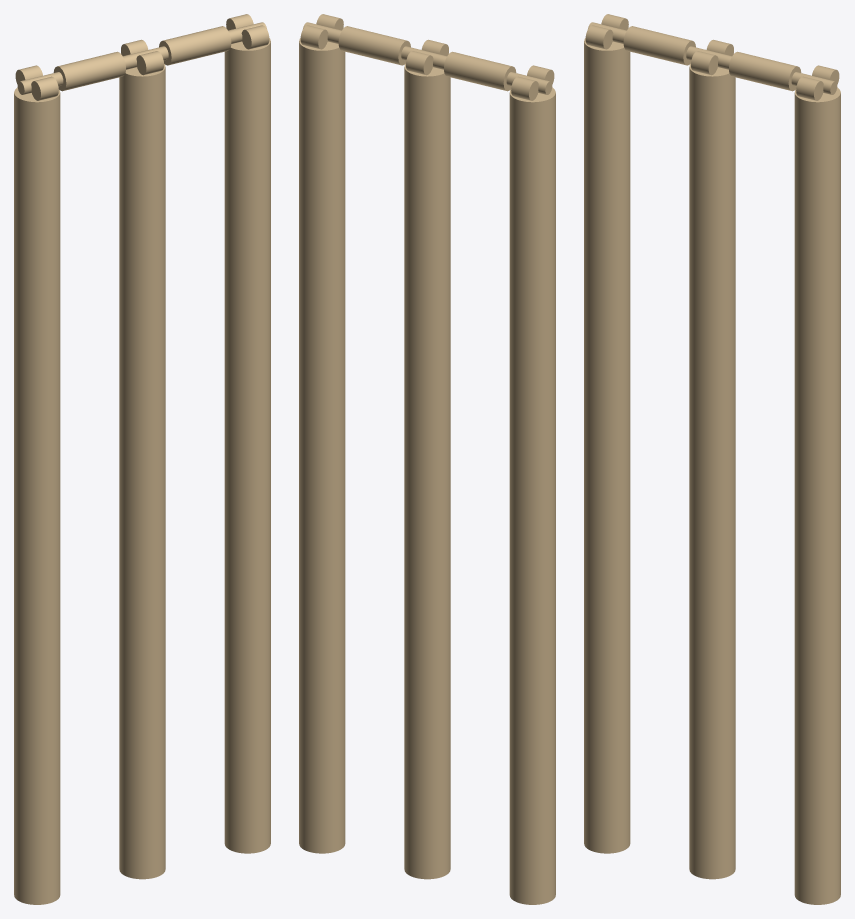
File: wicket.glb
3 renders of one model, left to right at view 1: azimuth 30°, elevation 25°; view 2: azimuth 150°, elevation 25°; view 3: azimuth 330°, elevation 25°, orthographic.
Parts seen in each view (by area): view 1: three-stump-wicket; view 2: three-stump-wicket; view 3: three-stump-wicket.
Boxes of the visible parts, x1,y1,x2,y2 form: three-stump-wicket: [14, 14, 270, 904]; three-stump-wicket: [299, 14, 555, 904]; three-stump-wicket: [584, 14, 840, 904].
Size of the model in its own units: 0.226 by 0.709 by 0.04.
